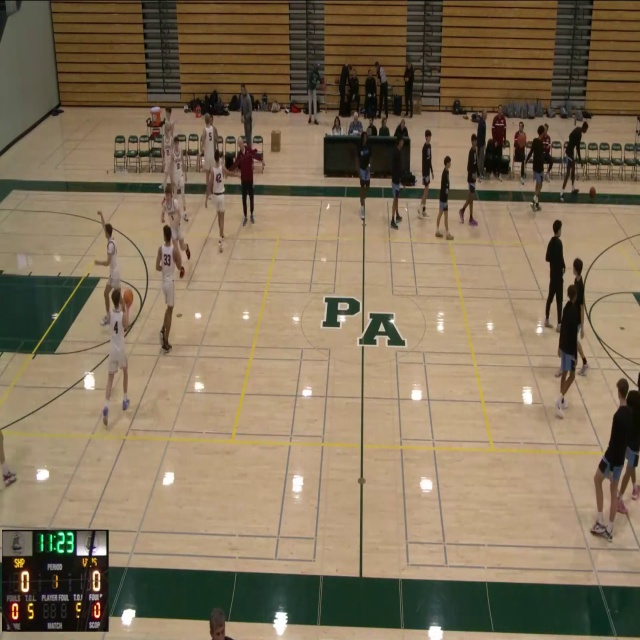Basketball: (122, 288, 133, 308), (589, 187, 596, 198)
